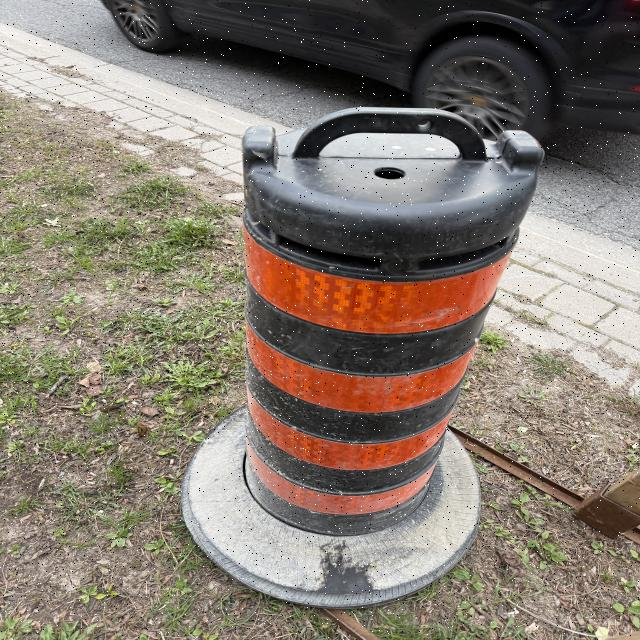Teraffic Barrel: (183, 109, 542, 606)
